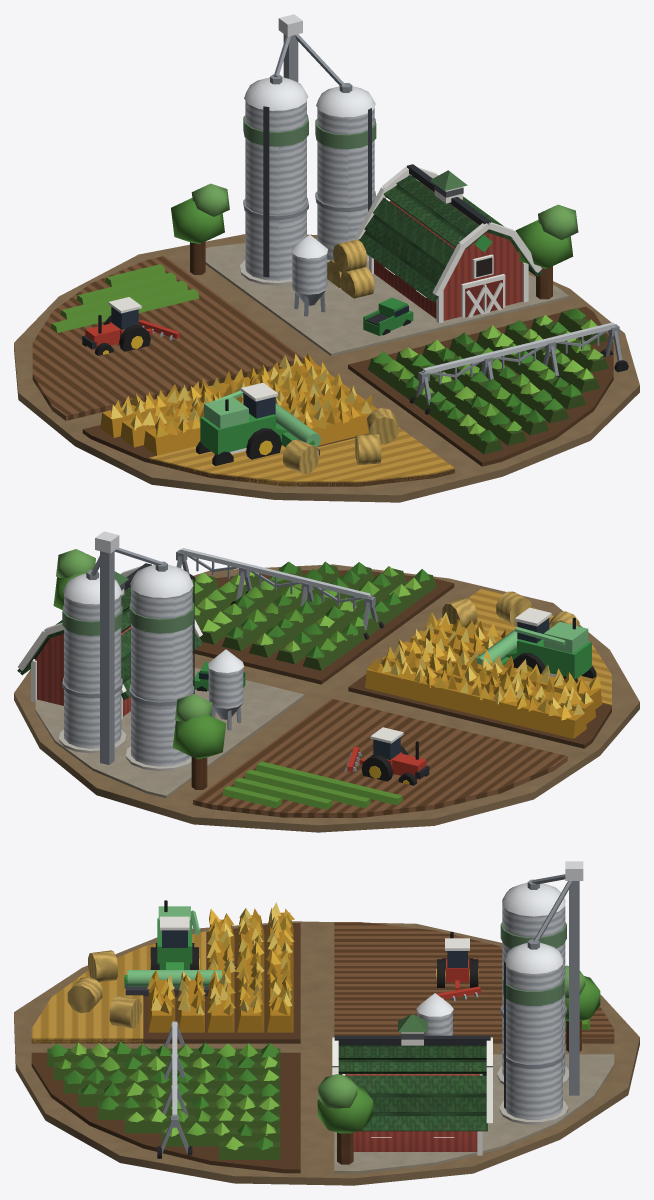
Rendered from farm_modern_green.glb.
The picture shows the model from 3 angles, top to bottom: view 1: azimuth 30°, elevation 25°; view 2: azimuth 150°, elevation 25°; view 3: azimuth 270°, elevation 25°; orthographic projection.
Parts seen in each view (by area): view 1: farm_modern_green; view 2: farm_modern_green; view 3: farm_modern_green.
Part boxes in pixels (bbox=[...]): farm_modern_green: bbox=[14, 14, 639, 502]; farm_modern_green: bbox=[14, 531, 639, 832]; farm_modern_green: bbox=[14, 861, 639, 1185].
Bounding box in the file's own units: 1.36 × 0.585 × 1.4.
Materials: 2 (1 with a texture image).
